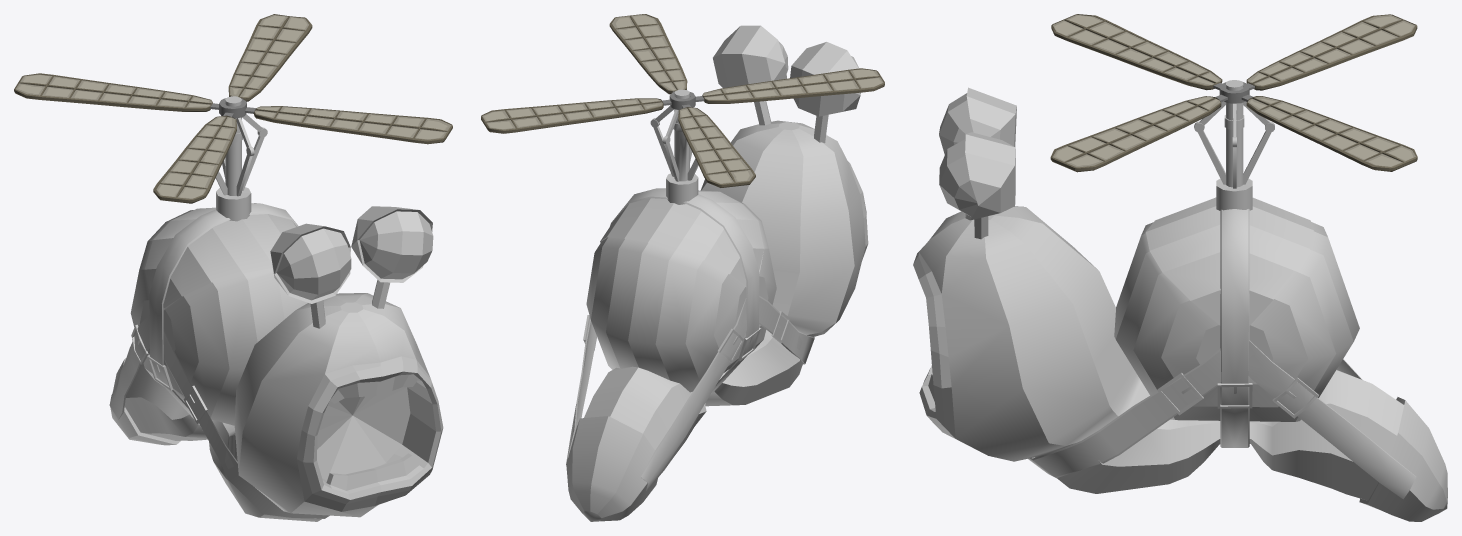
File: FlyingSnailModel.fbx
3 renders of one model, left to right at view 1: azimuth 30°, elevation 25°; view 2: azimuth 150°, elevation 25°; view 3: azimuth 270°, elevation 25°, orthographic. The views are drawn at different scales.
Visible parts, largest first — view 1: polySurface13, polySurface12; view 2: polySurface13, polySurface12; view 3: polySurface13, polySurface12.
Boxes of the visible parts, <box> form: polySurface13: <box>109,96,443,521</box>; polySurface12: <box>14,14,452,203</box>; polySurface13: <box>566,25,868,521</box>; polySurface12: <box>481,14,884,187</box>; polySurface13: <box>913,80,1447,521</box>; polySurface12: <box>1050,14,1417,172</box>.
Size of the model in its own units: 16.94 by 22.22 by 24.81.
